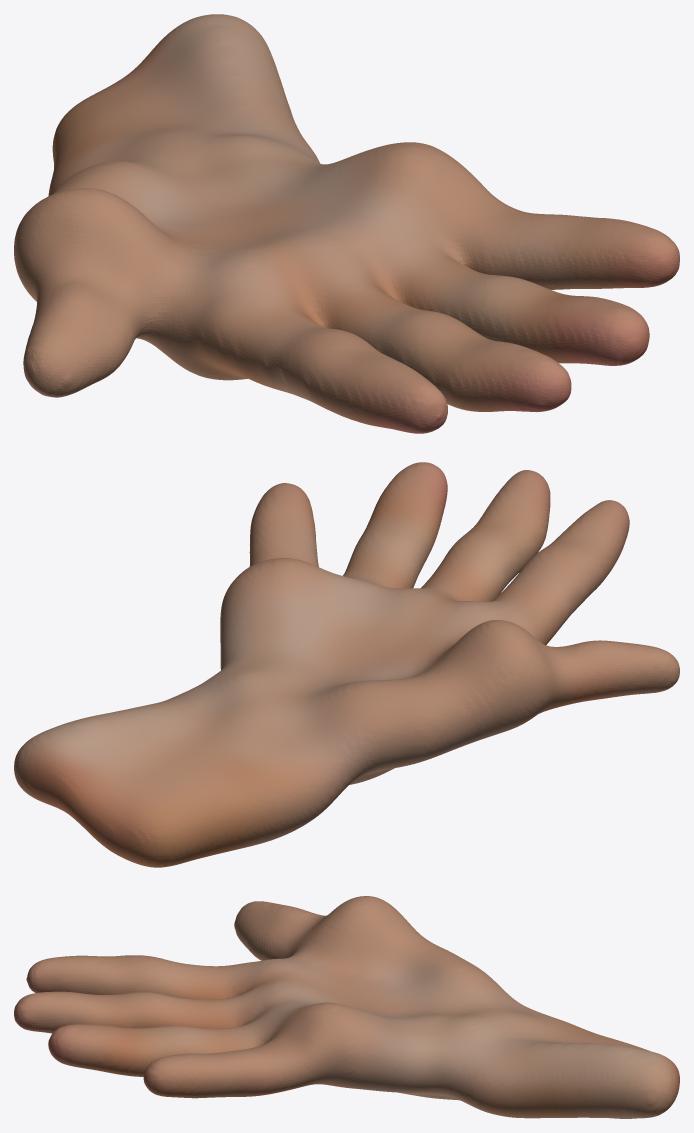
The model's file is hand_skin.glb.
3 renders of one model, top to bottom at view 1: azimuth 30°, elevation 25°; view 2: azimuth 150°, elevation 25°; view 3: azimuth 270°, elevation 25°, orthographic. The views are drawn at different scales.
Visible parts, largest first — view 1: world; view 2: world; view 3: world.
Part boxes in pixels (x1,y1,x2,y2): world: (14, 14, 679, 433); world: (14, 462, 679, 867); world: (14, 896, 679, 1118).
Bounding box in the file's own units: 160 × 57.7 × 237.
